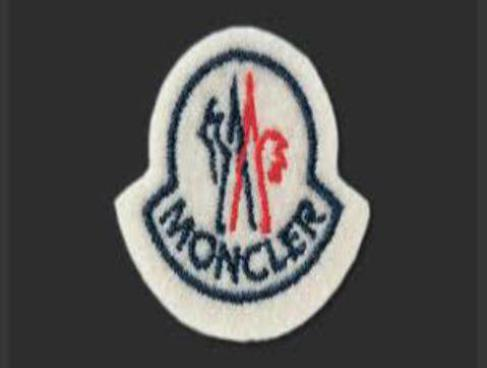MONCLER: (193, 69, 292, 237)
